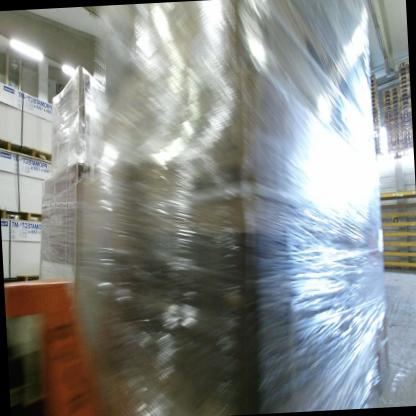pallet: (0, 133, 57, 167), (0, 203, 42, 227), (7, 274, 41, 285), (382, 85, 398, 95), (384, 110, 401, 119), (385, 128, 402, 137), (382, 98, 400, 106), (384, 123, 402, 131), (382, 91, 399, 99), (385, 119, 401, 127), (386, 132, 402, 140), (397, 58, 409, 68), (384, 103, 400, 110), (383, 115, 399, 122), (398, 63, 409, 73), (383, 96, 400, 102), (387, 138, 403, 144), (400, 98, 411, 106), (398, 77, 410, 84), (400, 91, 410, 99), (400, 95, 410, 103), (383, 107, 399, 112), (398, 73, 409, 80), (401, 120, 412, 127), (398, 82, 410, 88), (404, 137, 413, 145), (399, 86, 409, 93), (401, 112, 411, 119), (397, 70, 408, 76), (401, 104, 411, 110), (403, 129, 411, 136), (402, 108, 411, 114), (402, 115, 412, 120), (403, 125, 411, 131), (370, 77, 377, 83), (373, 117, 380, 123), (403, 134, 411, 139), (404, 143, 412, 148), (372, 113, 378, 119), (371, 82, 377, 87), (371, 90, 376, 96), (369, 74, 374, 79), (371, 86, 376, 91), (371, 95, 376, 99), (371, 99, 376, 103), (372, 107, 377, 111), (372, 110, 377, 114), (372, 103, 377, 106)
pallet_truck: (5, 253, 119, 416)
